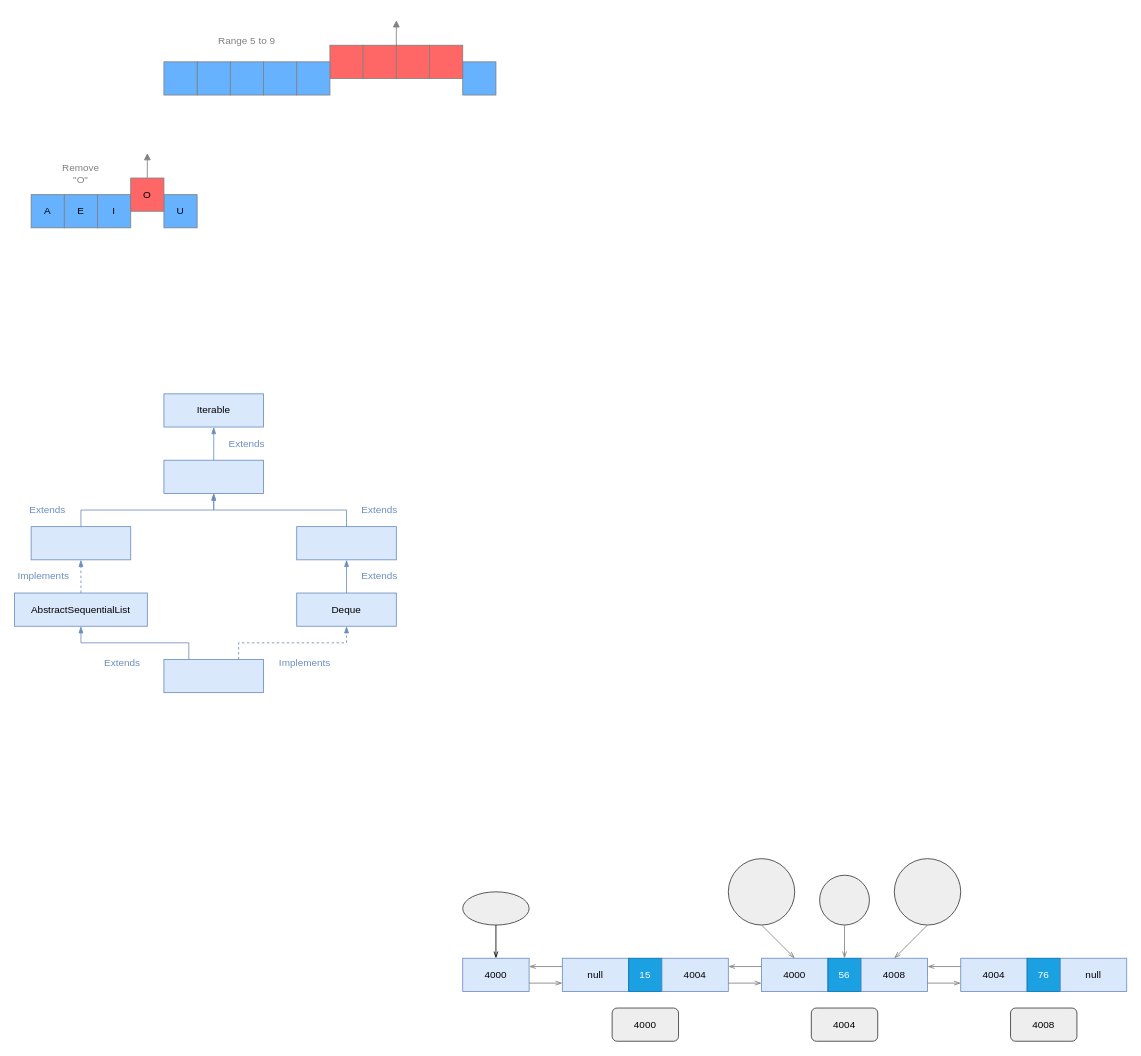
Image size: 1141x1056. Some labels were removed from this diagram. Here are the shapes that lost their labels. From the top down, the box of each, then its label:
(163, 459, 264, 493): Collection
(30, 526, 131, 560): List
(296, 526, 396, 560): Queue
(163, 659, 264, 693): LinkedList
(462, 891, 529, 925): Head
(727, 858, 795, 925): Addess of previous node
(819, 874, 869, 925): Value
(893, 858, 961, 925): Address of next node
